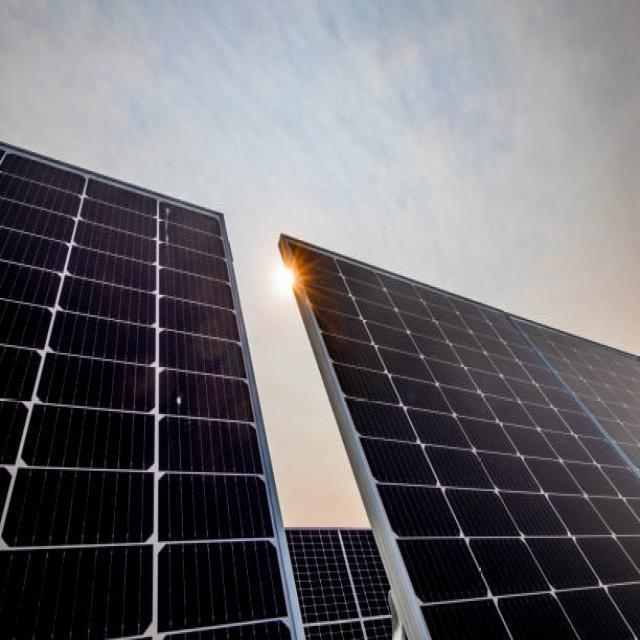no faulty: (0, 141, 308, 640), (286, 235, 640, 640), (289, 524, 399, 637)
